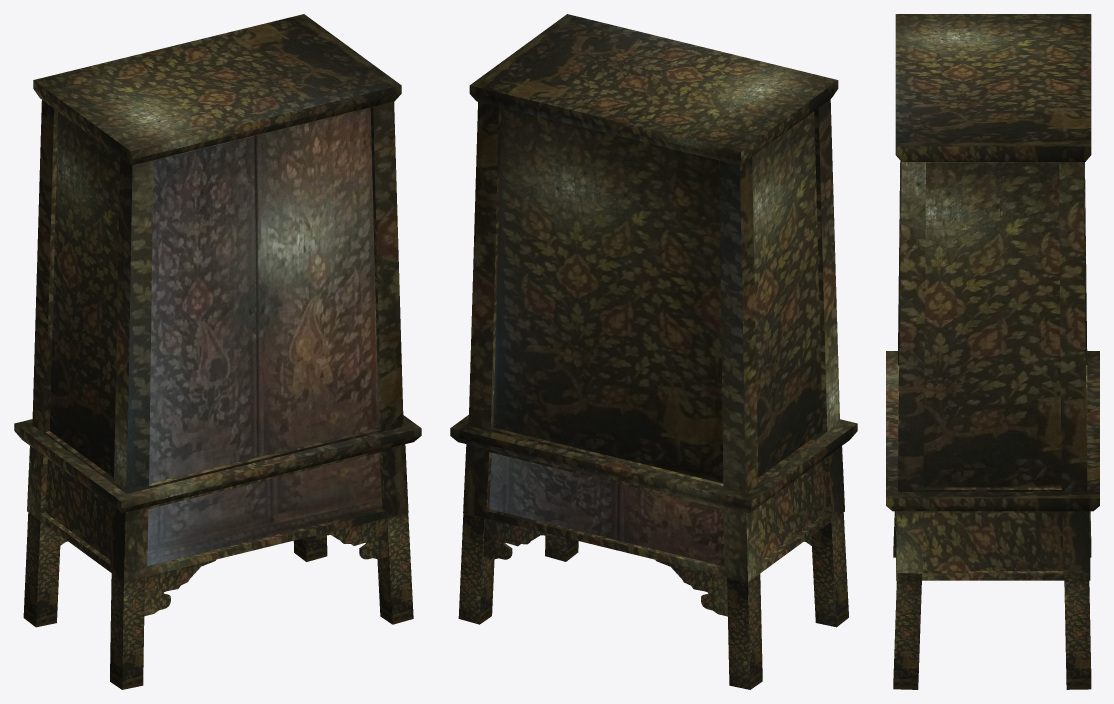
The model's file is carbinet_a.glb.
3 renders of one model, left to right at view 1: azimuth 30°, elevation 25°; view 2: azimuth 150°, elevation 25°; view 3: azimuth 270°, elevation 25°, orthographic.
Parts seen in each view (by area): view 1: Box02, Box01, Box04, Box03, Box11, Box09, Box10, Shape02, Shape1, Box08; view 2: Box02, Box01, Box04, Box03, Box09, Box11, Box08, Shape03, Shape04, Box10; view 3: Box02, Box01, Box04, Box03, Box10, Box08.
Part boxes in pixels (left/top/right/bottom): Box02: left=32, top=100, right=403, bottom=493; Box01: left=33, top=14, right=401, bottom=165; Box04: left=27, top=444, right=408, bottom=581; Box03: left=14, top=415, right=421, bottom=512; Box11: left=110, top=573, right=144, bottom=689; Box09: left=23, top=512, right=60, bottom=627; Box10: left=377, top=513, right=413, bottom=624; Shape02: left=315, top=518, right=388, bottom=559; Shape1: left=144, top=559, right=215, bottom=616; Box08: left=293, top=535, right=327, bottom=561; Box02: left=468, top=99, right=839, bottom=493; Box01: left=469, top=14, right=838, bottom=165; Box04: left=463, top=444, right=844, bottom=582; Box03: left=450, top=415, right=857, bottom=513; Box09: left=727, top=574, right=762, bottom=689; Box11: left=811, top=512, right=848, bottom=627; Box08: left=458, top=513, right=494, bottom=624; Shape03: left=483, top=518, right=555, bottom=559; Shape04: left=655, top=560, right=727, bottom=616; Box10: left=545, top=535, right=578, bottom=561; Box02: left=898, top=161, right=1087, bottom=491; Box01: left=895, top=14, right=1091, bottom=161; Box04: left=896, top=511, right=1090, bottom=580; Box03: left=886, top=351, right=1099, bottom=511; Box10: left=893, top=573, right=922, bottom=689; Box08: left=1064, top=573, right=1091, bottom=689.
Bounding box in the file's own units: 0.3578 × 0.611 × 0.2199.
3 materials, 3 textured.
